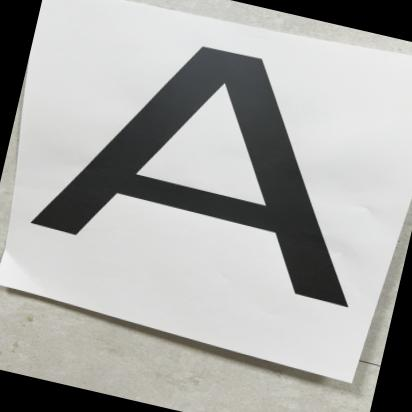seat: (16, 0, 397, 336)
